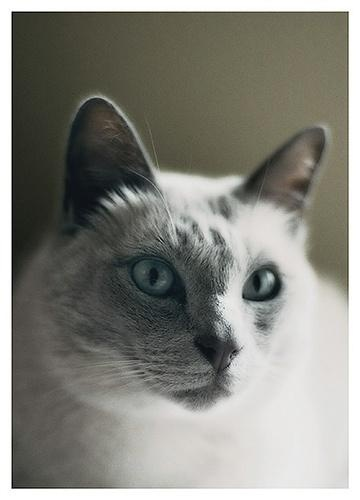cat: (13, 89, 349, 490)
